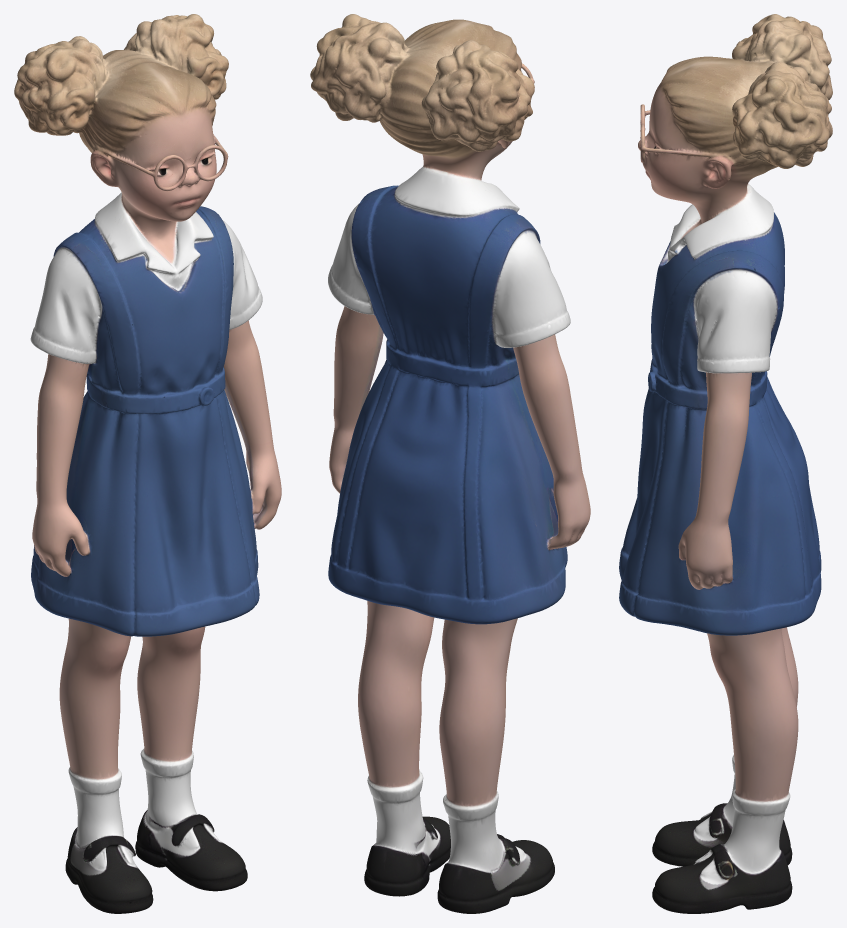
Rendered from Kelly.glb.
3 views of the same model, side by side, from view 1: azimuth 30°, elevation 25°; view 2: azimuth 150°, elevation 25°; view 3: azimuth 270°, elevation 25° (orthographic). The views are drawn at different scales.
Size of the model in its own units: 0.577 by 1.9 by 0.4395.
1 material, 1 textured.
